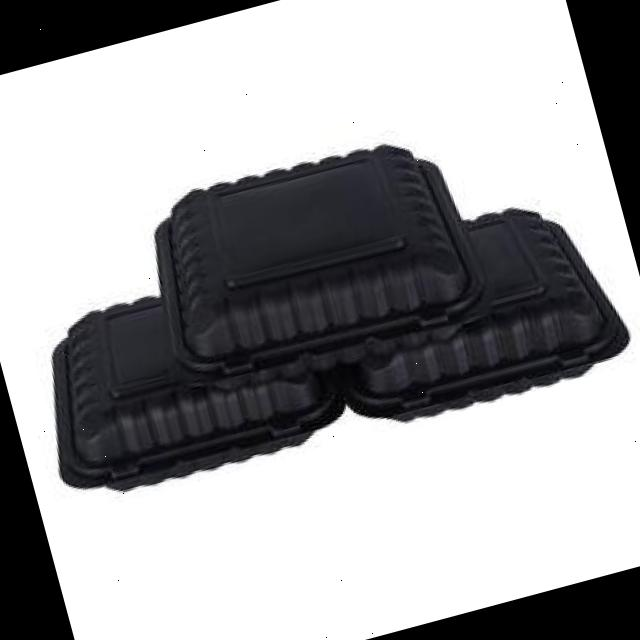styrofoam: (0, 82, 639, 517)
